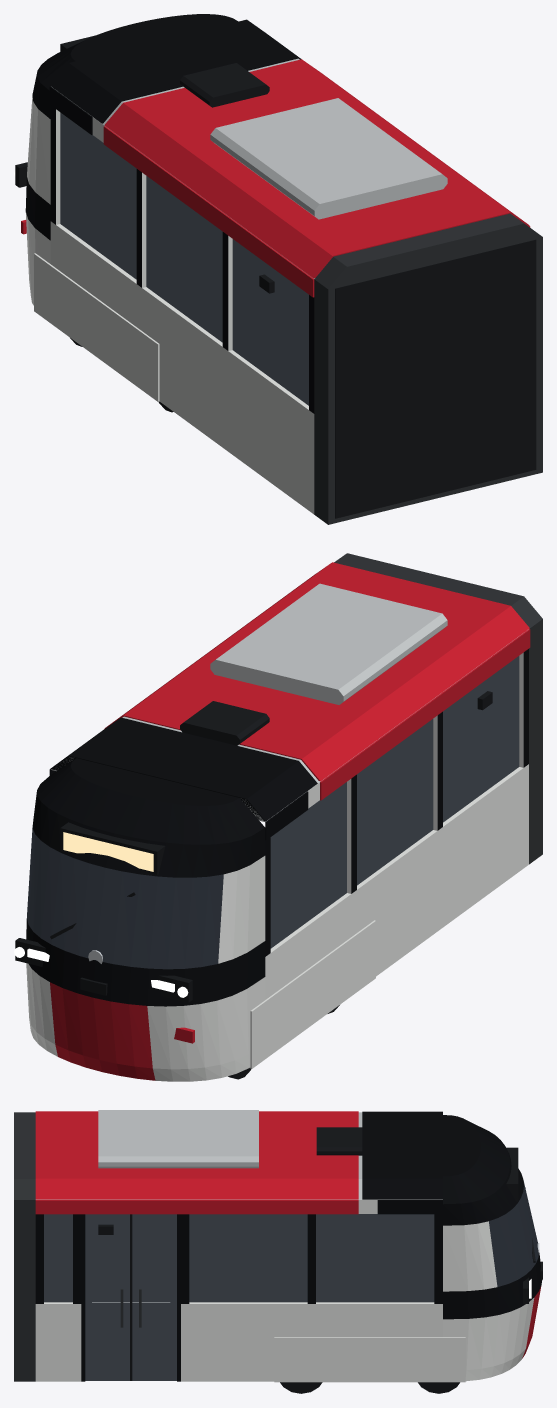
The picture shows the model from 3 angles, top to bottom: view 1: azimuth 30°, elevation 25°; view 2: azimuth 150°, elevation 25°; view 3: azimuth 270°, elevation 25°; orthographic projection. The views are drawn at different scales.
Visible parts, largest first — view 1: 52t-a; view 2: 52t-a; view 3: 52t-a.
Boxes of the visible parts, box(x1,y1,x2,y2) form: 52t-a: box(14, 14, 542, 524); 52t-a: box(14, 553, 542, 1081); 52t-a: box(14, 1110, 542, 1393).
Size of the model in its own units: 2.6 by 3.3 by 6.91.
